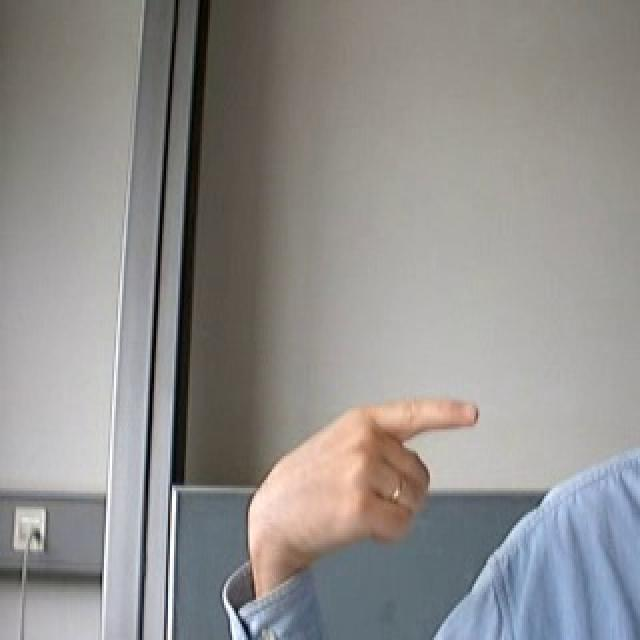G: (244, 386, 486, 561)
